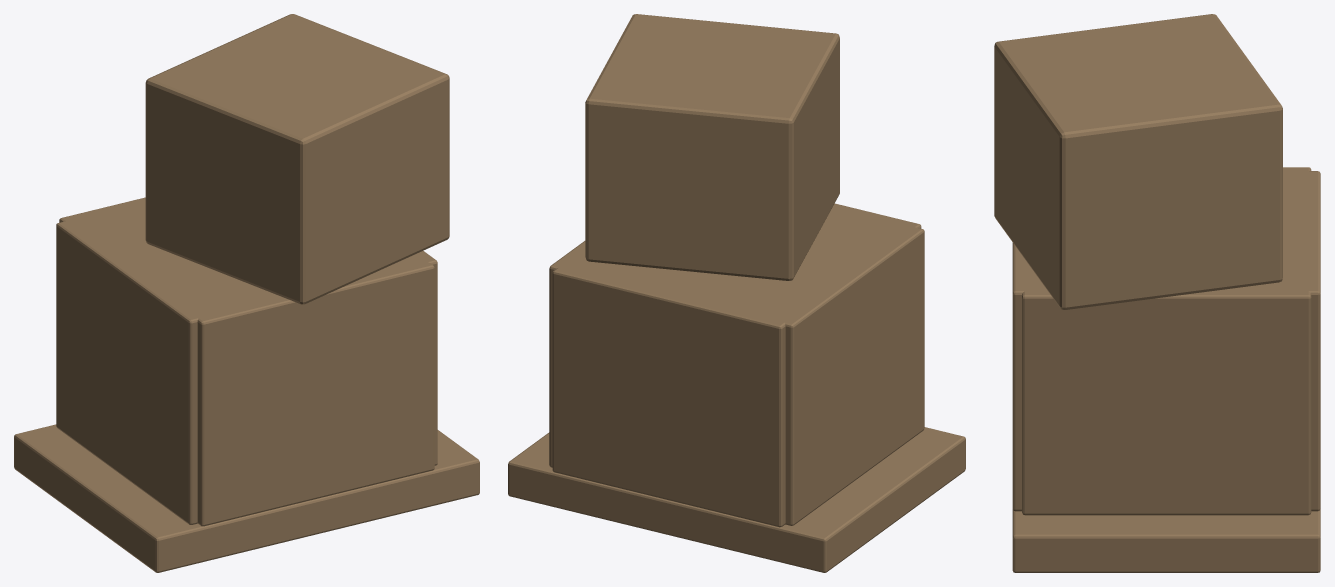
File: prop_crate_stack.glb
The picture shows the model from 3 angles, left to right: view 1: azimuth 30°, elevation 25°; view 2: azimuth 150°, elevation 25°; view 3: azimuth 270°, elevation 25°; orthographic projection. The views are drawn at different scales.
Visible parts, largest first — view 1: Cube.005, Cube.004, Cube.001, Cube.006, Cube, Cube.003; view 2: Cube.005, Cube.002, Cube.001, Cube.006, Cube, Cube.003, Cube.004; view 3: Cube.005, Cube.003, Cube.006, Cube.002, Cube, Cube.004.
Part boxes in pixels (x1,y1,x2,y2): Cube.005: (145, 14, 449, 304); Cube.004: (197, 261, 434, 526); Cube.001: (56, 221, 200, 524); Cube.006: (14, 424, 479, 572); Cube: (70, 203, 423, 315); Cube.003: (415, 251, 437, 465); Cube.005: (585, 14, 839, 280); Cube.002: (552, 266, 785, 527); Cube.001: (783, 227, 924, 525); Cube.006: (508, 427, 965, 572); Cube: (564, 209, 909, 320); Cube.003: (549, 241, 585, 467); Cube.004: (832, 203, 921, 228); Cube.005: (994, 14, 1282, 309); Cube.003: (1022, 289, 1311, 515); Cube.006: (1012, 509, 1320, 572); Cube.002: (1305, 171, 1320, 511); Cube: (1027, 172, 1305, 289); Cube.004: (1012, 242, 1027, 511).
Bounding box in the file's own units: 0.86 × 1.03 × 0.6992.
